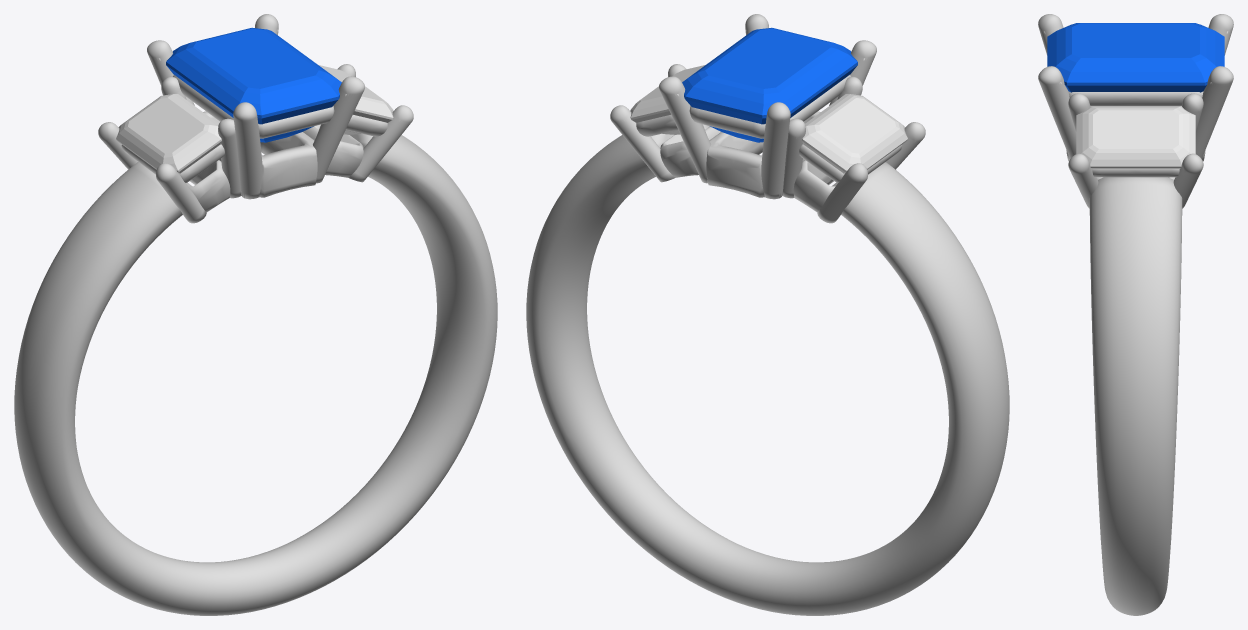
The model's file is bluesapphire-emerald-platinum-4prong-taperedband-3stone.glb.
The picture shows the model from 3 angles, left to right: view 1: azimuth 30°, elevation 25°; view 2: azimuth 150°, elevation 25°; view 3: azimuth 270°, elevation 25°; orthographic projection.
Parts seen in each view (by area): view 1: metal, stone, side, side.007; view 2: metal, stone, side, side.007; view 3: metal, stone, side.007.
Boxes of the visible parts, bbox=[...] form: metal: bbox=[14, 14, 497, 615]; stone: bbox=[166, 27, 341, 142]; side: bbox=[116, 94, 221, 173]; side.007: bbox=[318, 65, 393, 134]; metal: bbox=[526, 14, 1009, 615]; stone: bbox=[682, 27, 857, 142]; side: bbox=[802, 94, 907, 173]; side.007: bbox=[630, 65, 705, 134]; metal: bbox=[1038, 14, 1233, 615]; stone: bbox=[1047, 23, 1224, 92]; side.007: bbox=[1076, 106, 1195, 168].
Size of the model in its own units: 20.5 by 22.94 by 7.4.
